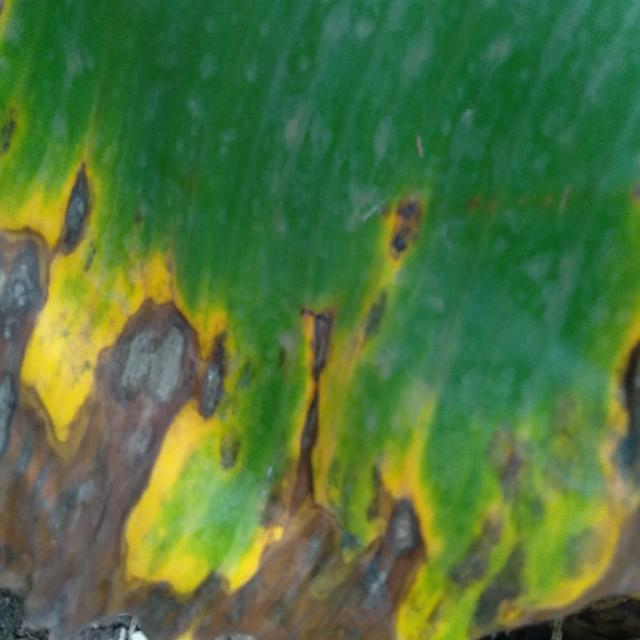Early_rust: (0, 103, 640, 639)
